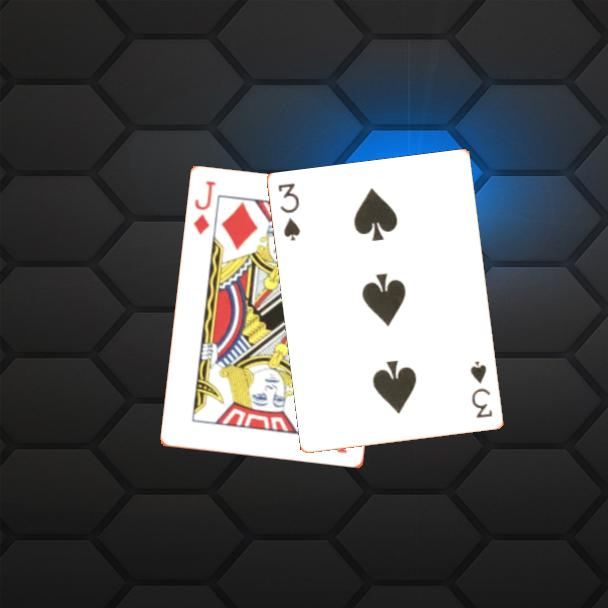d11: (190, 177, 219, 238)
s03: (467, 358, 496, 421), (275, 179, 303, 244)
